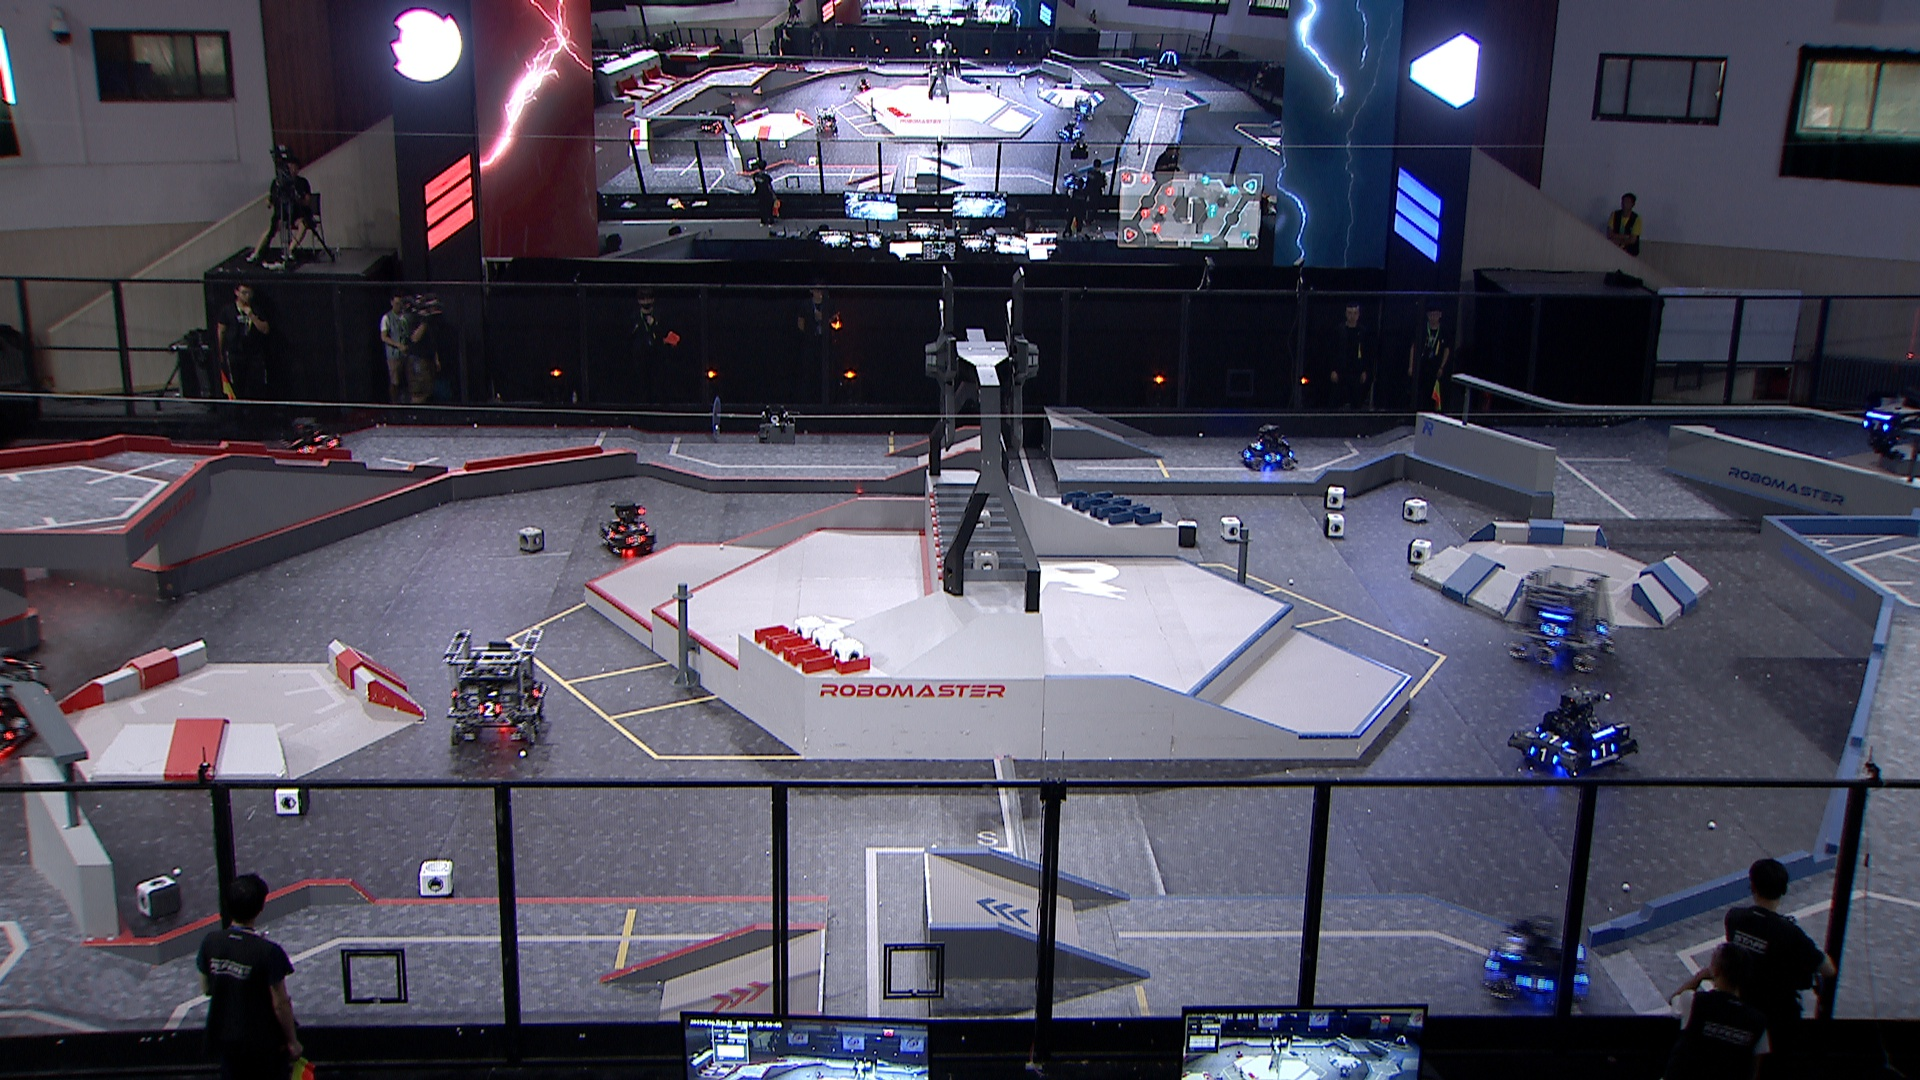armor: (1516, 971, 1555, 994), (1539, 727, 1571, 752), (1528, 744, 1563, 765), (1501, 932, 1524, 963), (1588, 737, 1618, 760), (1859, 415, 1892, 434), (615, 517, 646, 535), (1538, 618, 1561, 640), (475, 700, 501, 717), (622, 531, 646, 549), (526, 680, 545, 702), (1592, 618, 1613, 637), (1263, 448, 1282, 465), (294, 443, 316, 455), (1240, 448, 1254, 465), (603, 524, 617, 541), (324, 434, 338, 450)
car: (440, 626, 550, 750), (1509, 680, 1636, 783), (1506, 560, 1618, 671), (1480, 909, 1589, 1007), (596, 498, 657, 560), (1236, 422, 1302, 473), (284, 413, 347, 465)
ignore: (811, 102, 841, 142), (1068, 92, 1096, 121), (1058, 116, 1087, 144), (708, 107, 735, 135), (1158, 49, 1182, 69), (1134, 51, 1154, 73)
watcher: (1855, 396, 1913, 455)
